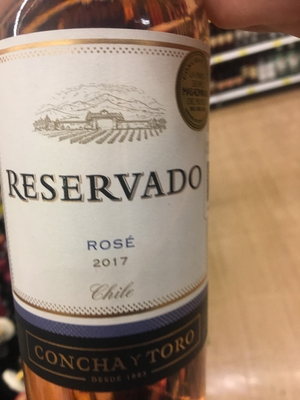reservado rose: (2, 20, 212, 395)
